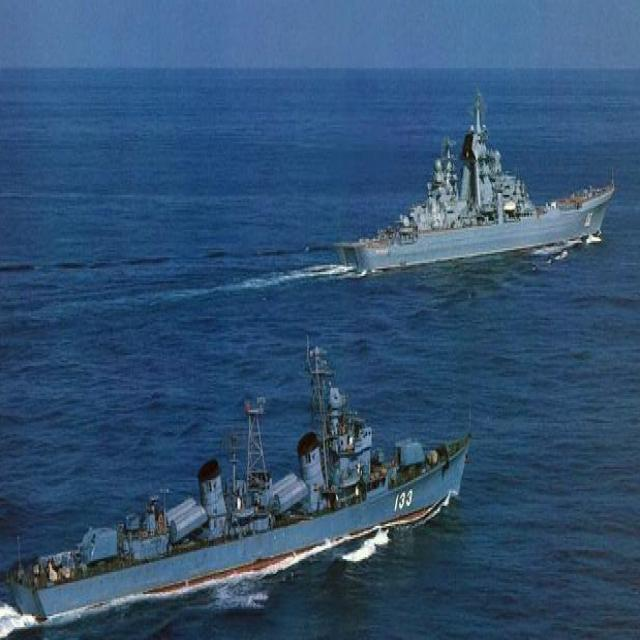navalvessels: (2, 348, 484, 617), (308, 75, 612, 281)
